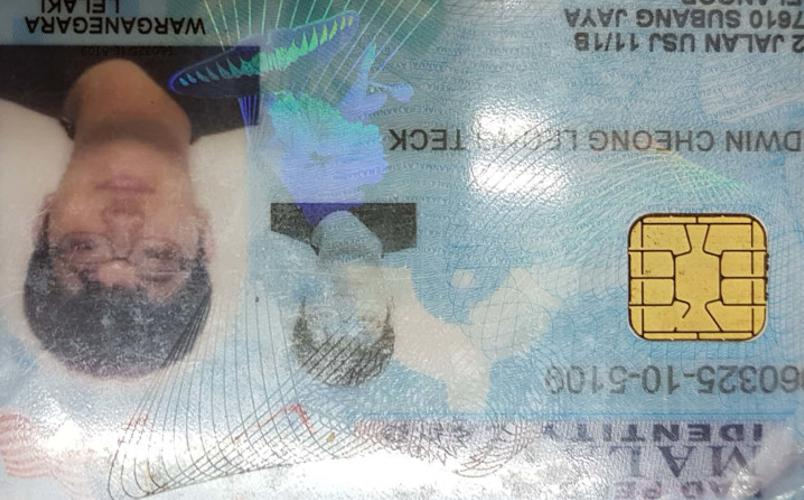hologramB: (264, 2, 388, 199)
